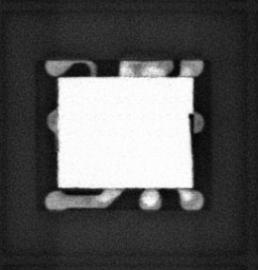DIE_BROKEN: (187, 111, 195, 152)
